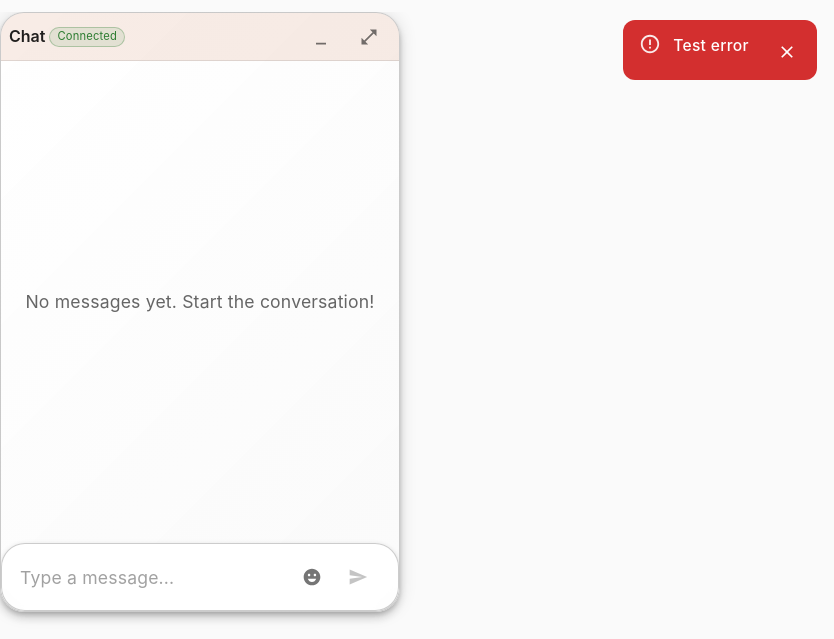
Test: ChatWindow › Error Handling › should close error alert
The image size is (834, 639).
Expected: the text "Test error" is shown, [673,36,749,55]
// Find and click the close button in the alert
Click the button named "Close" at x=787, y=52, box [765,30,809,74]
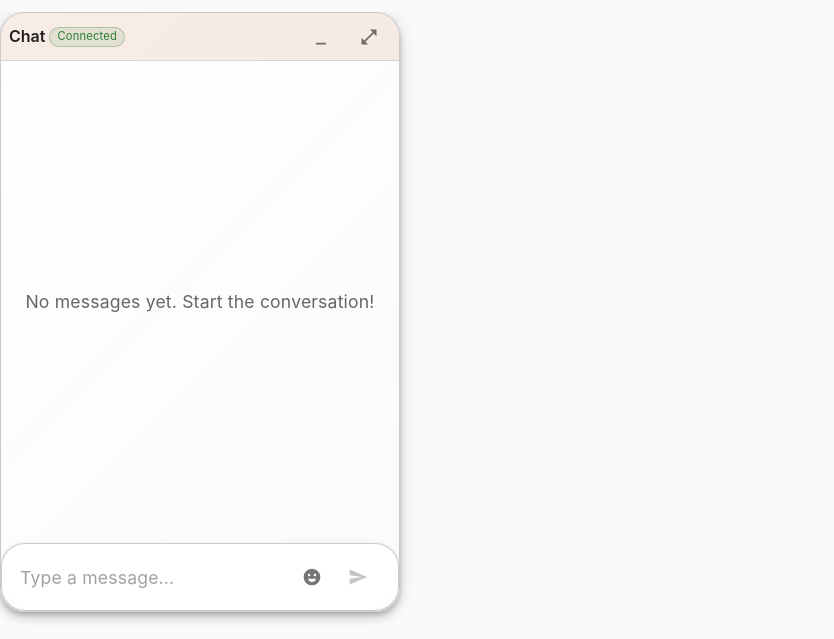
Expected: the text "Test error" is gone
